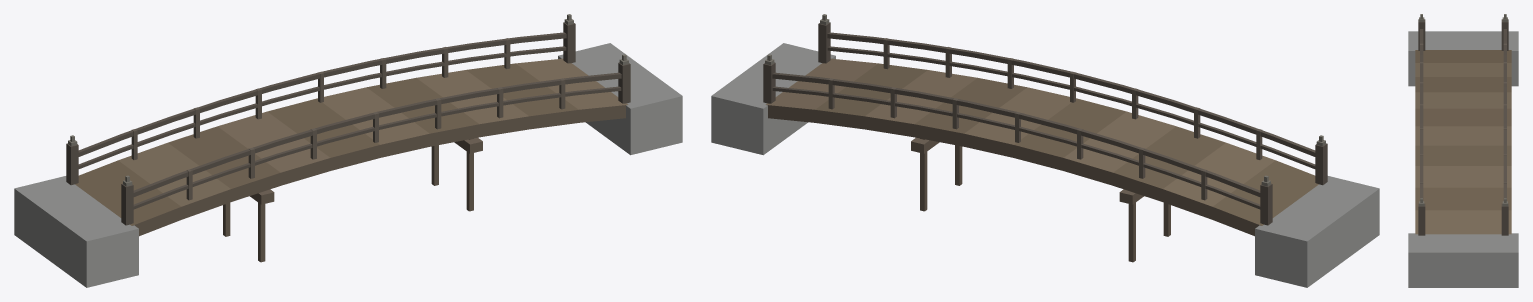
The model's file is bridge_small.glb.
3 views of the same model, side by side, from view 1: azimuth 30°, elevation 25°; view 2: azimuth 150°, elevation 25°; view 3: azimuth 270°, elevation 25° (orthographic). The views are drawn at different scales.
Visible parts, largest first — view 1: bridge_small; view 2: bridge_small; view 3: bridge_small.
Part boxes in pixels (x1,y1,x2,y2): bridge_small: (14, 14, 682, 287); bridge_small: (711, 14, 1379, 287); bridge_small: (1408, 14, 1518, 287).
Bounding box in the file's own units: 22.8 × 4.74 × 4.8.
